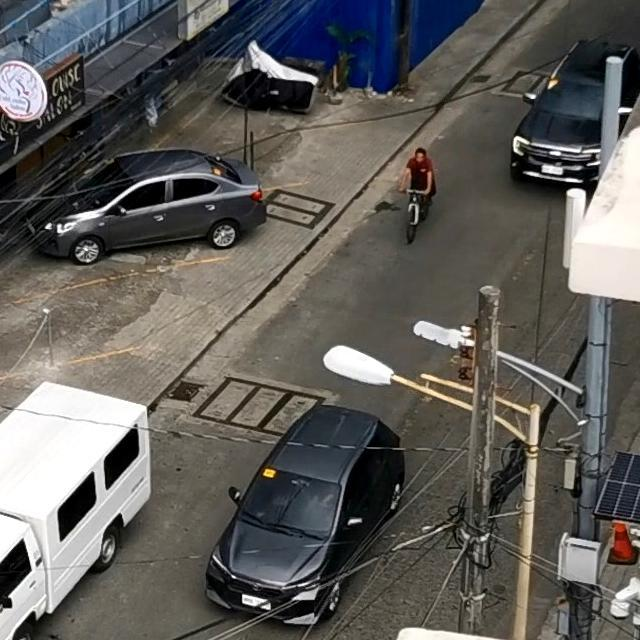Car: (202, 404, 388, 621), (0, 383, 147, 640), (30, 149, 256, 263), (505, 36, 640, 191)
